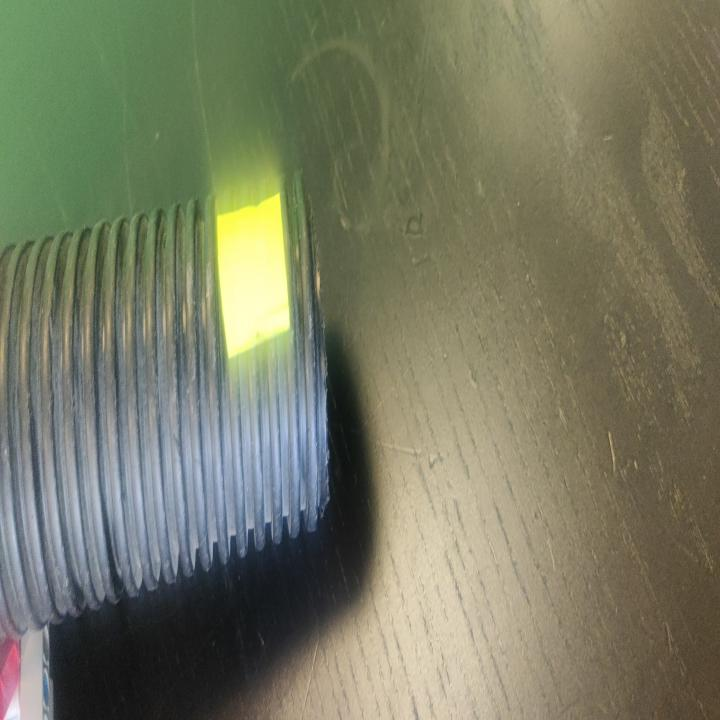robot-front: (2, 186, 315, 609)
